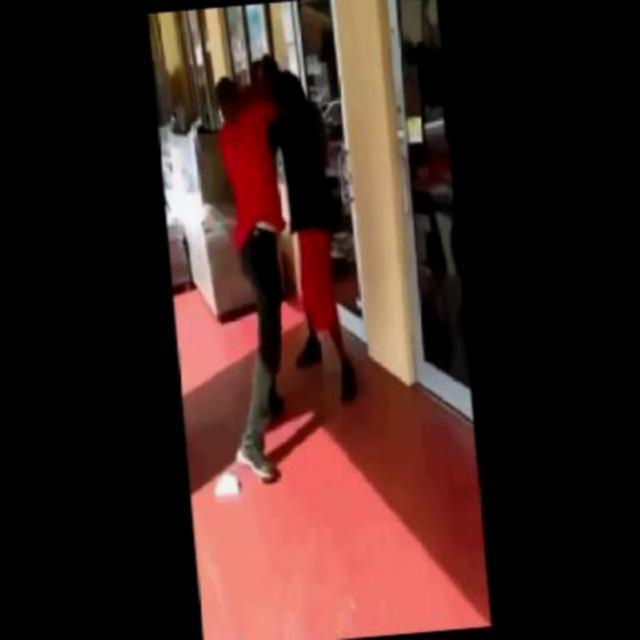fight: (214, 50, 360, 484)
